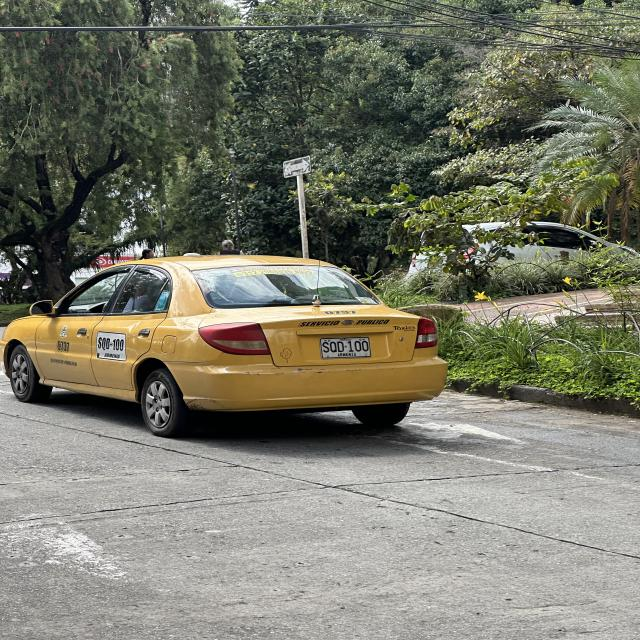number plate: (320, 337, 371, 358), (96, 331, 126, 361)
